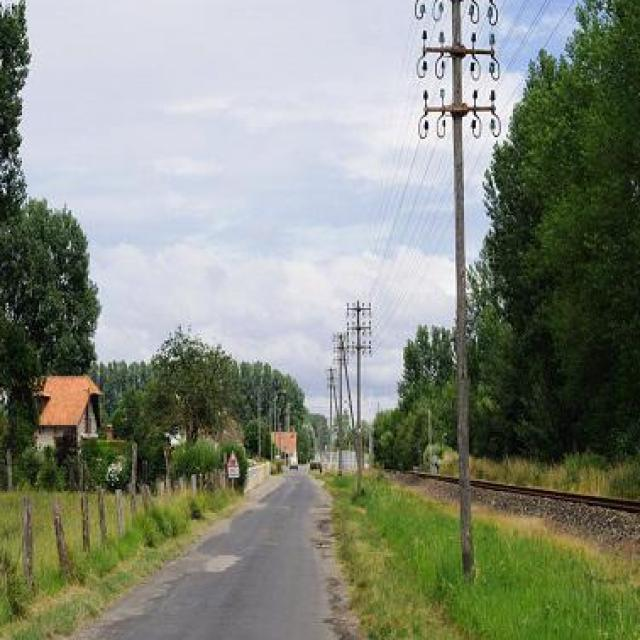non-critical vegetation: (403, 0, 510, 547)
